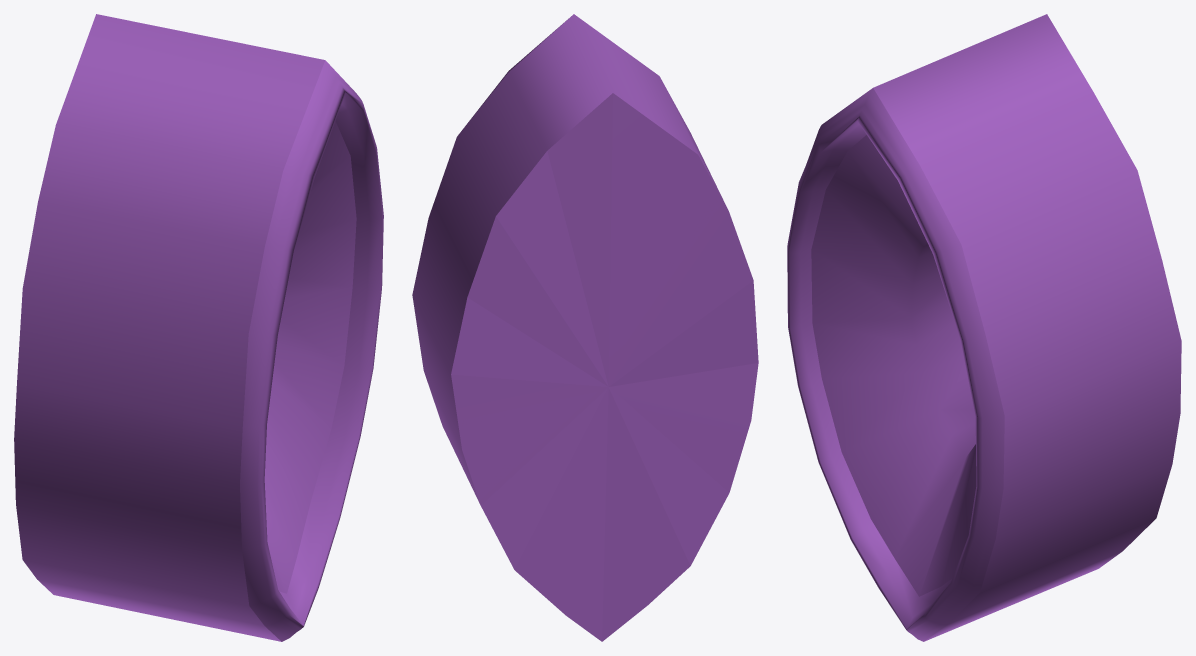
Rendered from BR3_8shapes_Marquise_Classic_Metal.001 3.glb.
3 views of the same model, side by side, from view 1: azimuth 30°, elevation 25°; view 2: azimuth 150°, elevation 25°; view 3: azimuth 270°, elevation 25° (orthographic). The views are drawn at different scales.
Visible parts, largest first — view 1: BR3_8shapes_Marquise_Classic_Metal.001; view 2: BR3_8shapes_Marquise_Classic_Metal.001; view 3: BR3_8shapes_Marquise_Classic_Metal.001.
Boxes of the visible parts, x1=… form: BR3_8shapes_Marquise_Classic_Metal.001: x1=14, y1=14, x2=383, y2=641; BR3_8shapes_Marquise_Classic_Metal.001: x1=412, y1=14, x2=758, y2=641; BR3_8shapes_Marquise_Classic_Metal.001: x1=787, y1=14, x2=1181, y2=641.
Size of the model in its own units: 0.4976 by 0.7763 by 0.4844.
